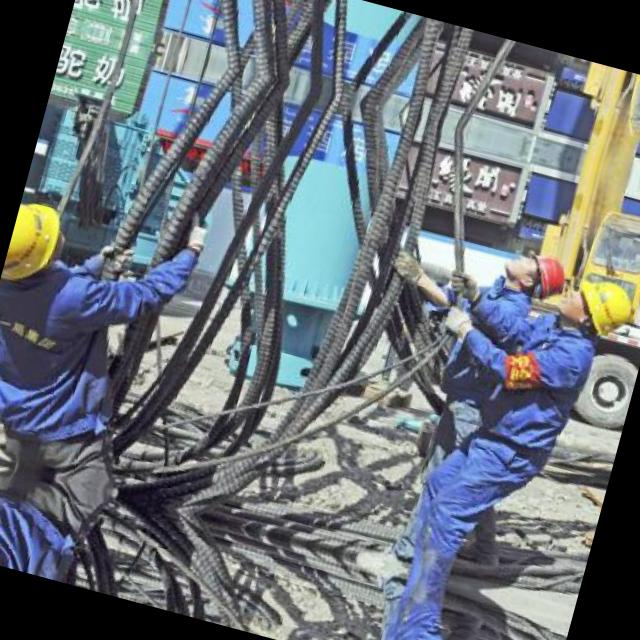helmet: (2, 193, 76, 284), (557, 269, 640, 346), (501, 248, 568, 300)
